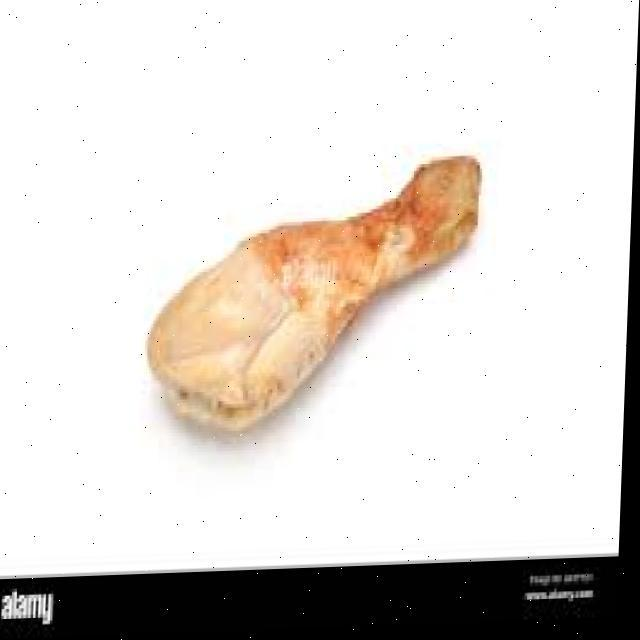leg: (136, 157, 486, 438)
